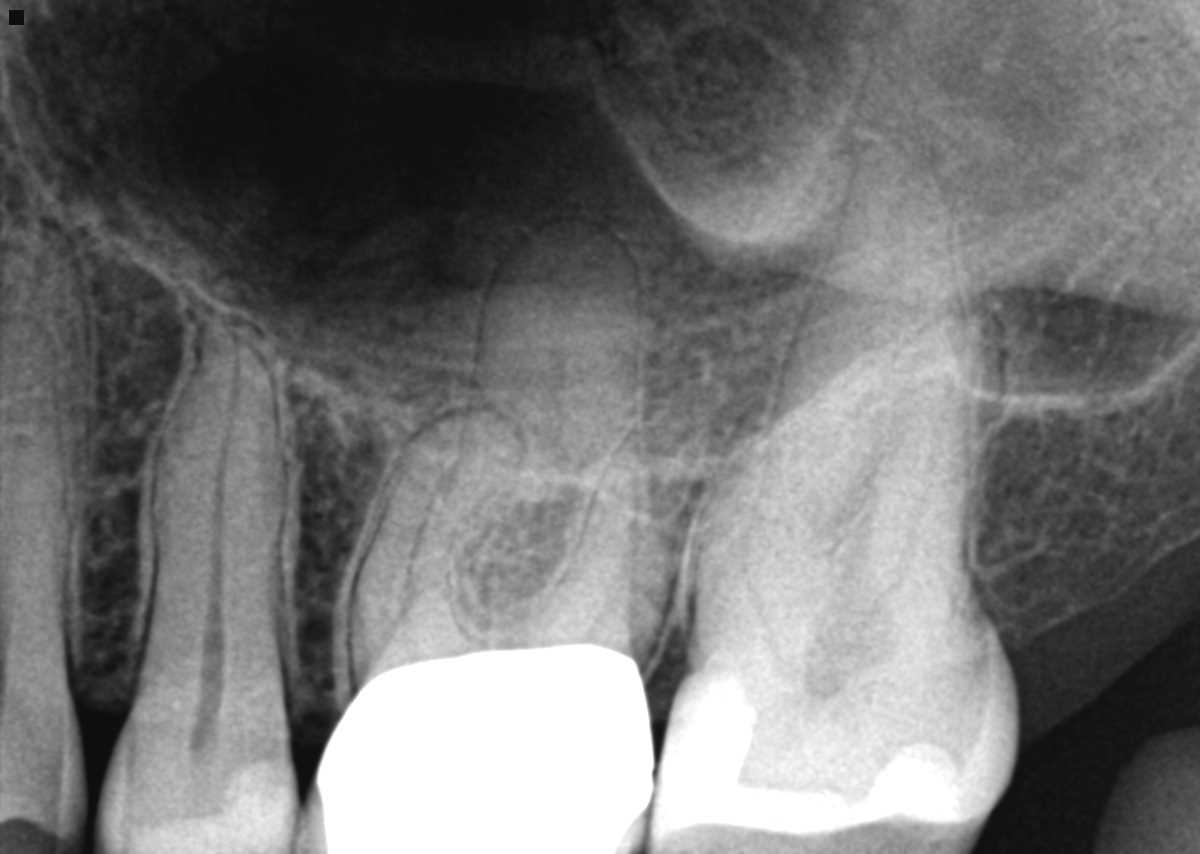Distal Canal: (891, 392, 943, 556)
Distal Root: (545, 380, 731, 657), (854, 310, 1007, 596)
Main Canal: (194, 330, 243, 711)
Main Root: (134, 316, 289, 713), (0, 220, 91, 673)
Mesial Canal: (396, 466, 461, 650), (737, 480, 790, 646)
Mesial Root: (684, 410, 880, 674), (352, 410, 519, 670)
Palatal Canal: (544, 251, 587, 455)
Palatal Root: (698, 130, 970, 659), (366, 216, 644, 664)
